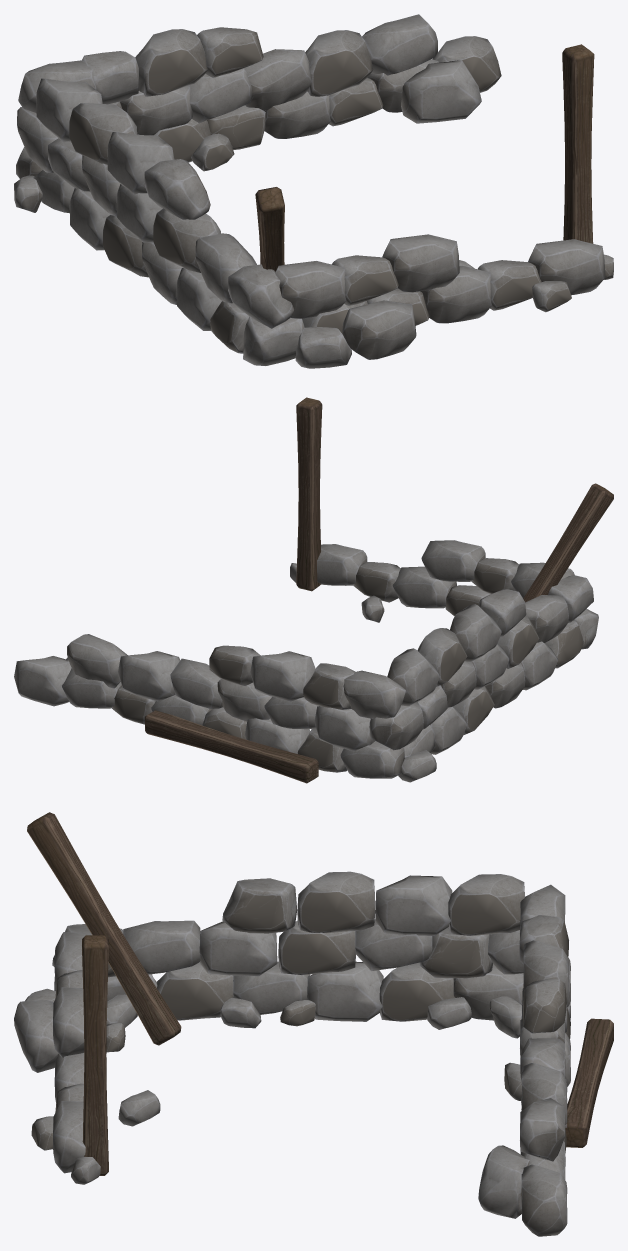
File: Ruin_house.fbx
The picture shows the model from 3 angles, top to bottom: view 1: azimuth 30°, elevation 25°; view 2: azimuth 150°, elevation 25°; view 3: azimuth 270°, elevation 25°; orthographic projection. The views are drawn at different scales.
Visible parts, largest first — view 1: brick1_low6; view 2: brick1_low6; view 3: brick1_low6.
Boxes of the visible parts, <box> form: brick1_low6: <box>14,14,613,368</box>; brick1_low6: <box>14,397,613,783</box>; brick1_low6: <box>14,812,613,1236</box>.
Size of the model in its own units: 689 by 312 by 710.
1 material, 1 textured.
